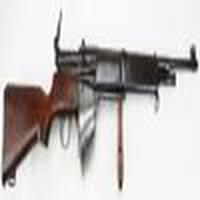gun: (1, 42, 200, 183)
